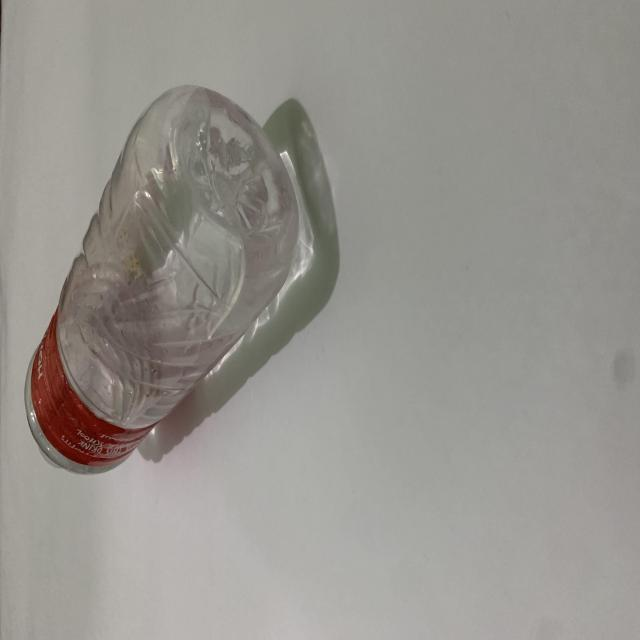bottle: (18, 68, 308, 496)
